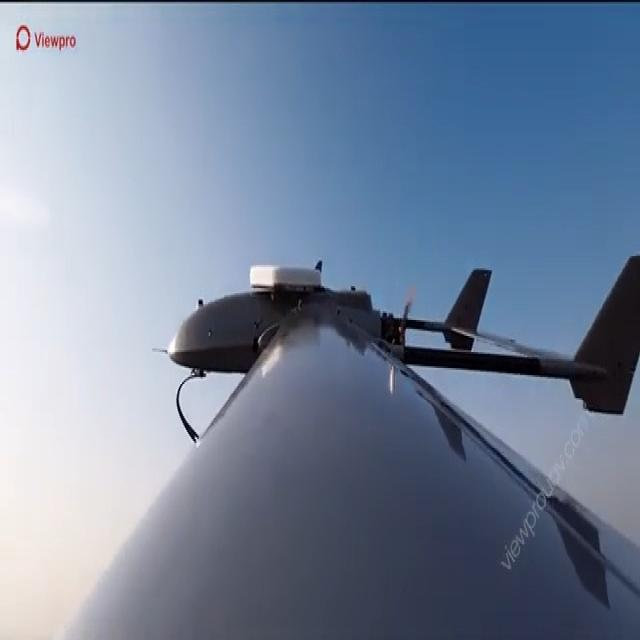drones: (143, 212, 640, 632)
